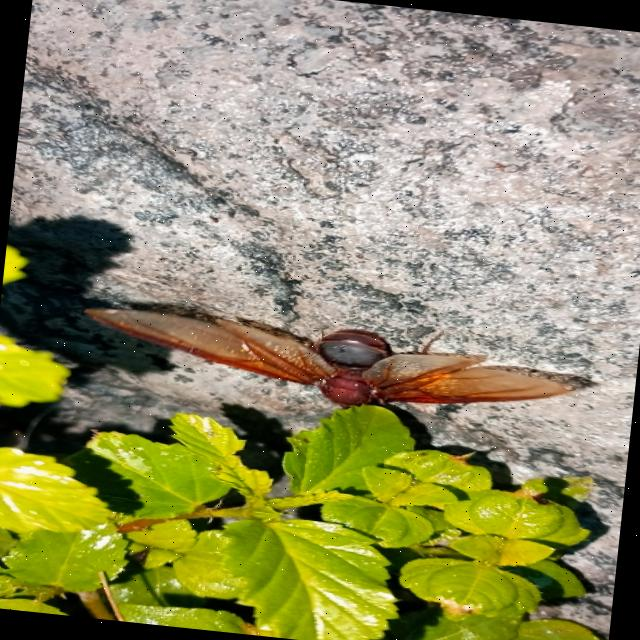Alive-Female-Alate: (75, 292, 577, 433)
